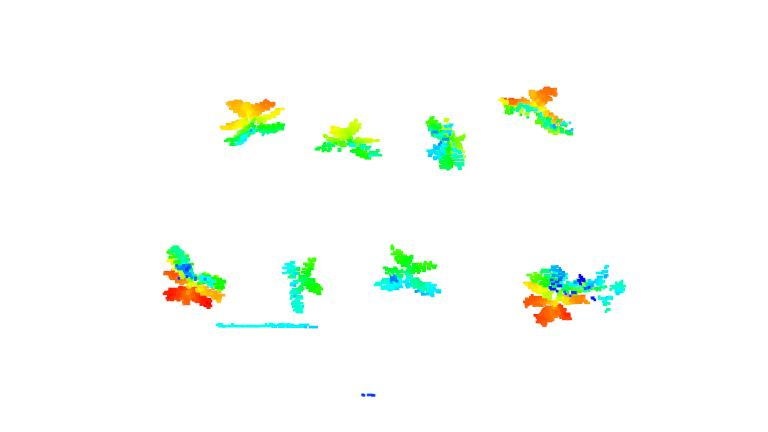chickpea: (524, 260, 629, 327), (159, 241, 230, 314), (499, 81, 576, 138), (371, 245, 444, 301), (218, 93, 287, 147), (311, 117, 384, 164), (420, 114, 472, 173), (278, 255, 324, 314)
